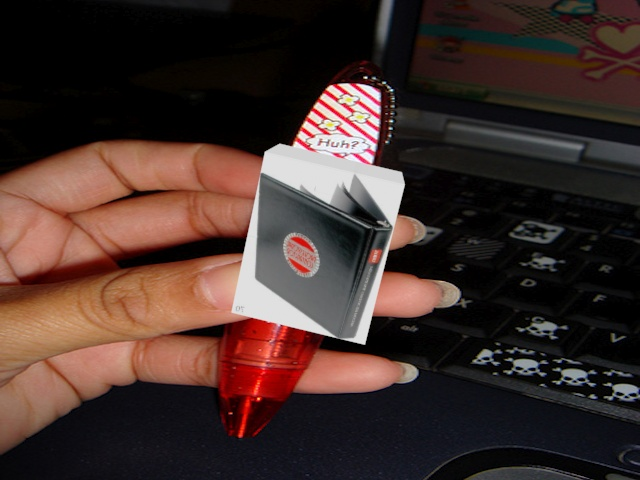file_cabinet: (225, 137, 408, 352)
